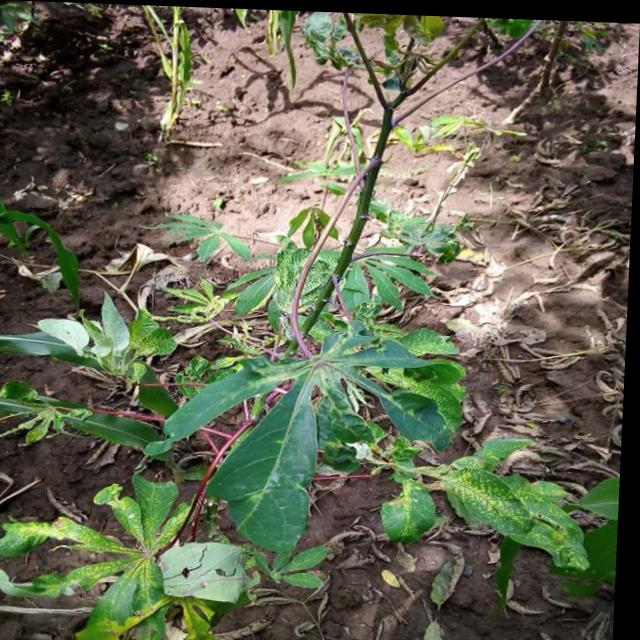Mosaico: (220, 318, 516, 497), (385, 427, 621, 587), (52, 461, 198, 603), (55, 297, 242, 407), (147, 264, 267, 368)
